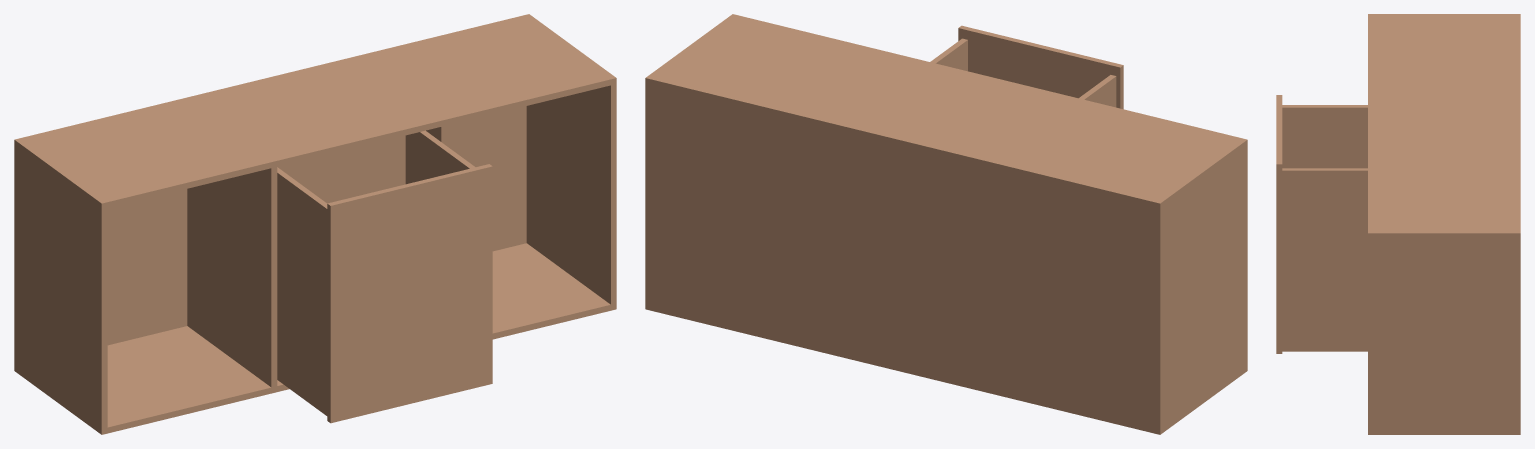
File: meuble_691292a0893c3.glb
3 views of the same model, side by side, from view 1: azimuth 30°, elevation 25°; view 2: azimuth 150°, elevation 25°; view 3: azimuth 270°, elevation 25° (orthographic). The views are drawn at different scales.
Parts seen in each view (by area): view 1: world; view 2: world; view 3: world.
Part boxes in pixels (bbox=[...]): world: bbox=[14, 14, 616, 434]; world: bbox=[645, 14, 1247, 434]; world: bbox=[1276, 14, 1520, 434].
Size of the model in its own units: 1.7 by 0.73 by 0.8.
